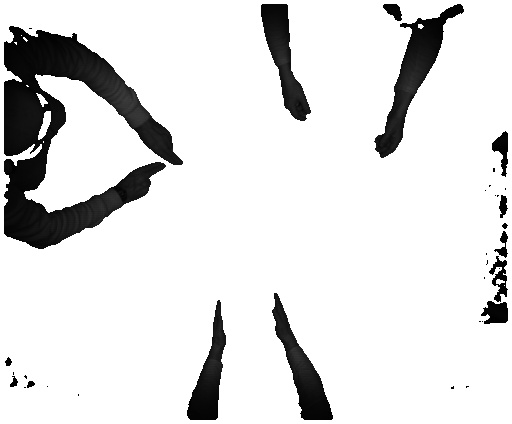fist: (282, 84, 311, 127), (368, 127, 406, 159)
hand: (122, 162, 168, 207), (141, 122, 183, 168)
spine: (272, 292, 296, 346), (209, 301, 231, 355)
